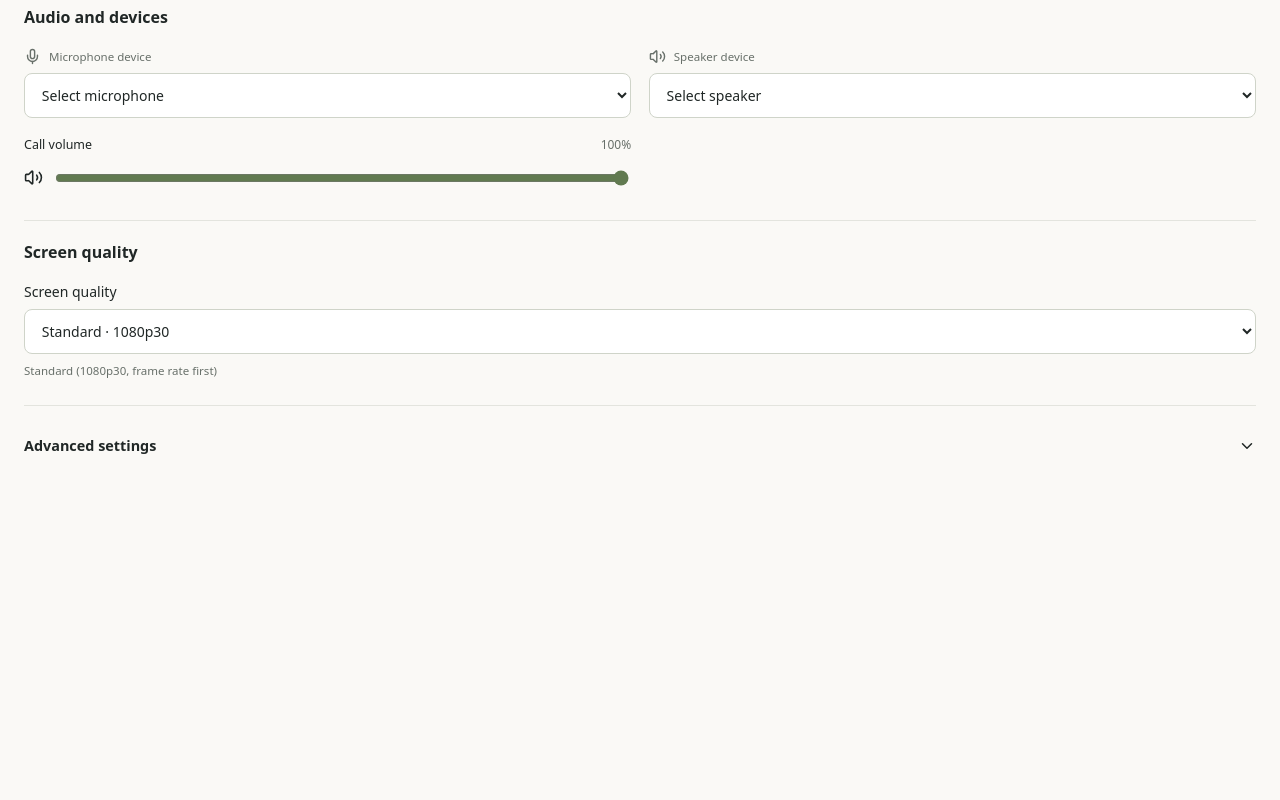
Test: grouped meeting settings › shows receiving settings only when available and retains the supplied preference
Check: the element "Receiving a screen" is not shown
Click the heading "Advanced settings" at (90, 446), box top-left (24, 436), bottom-right (1256, 455)
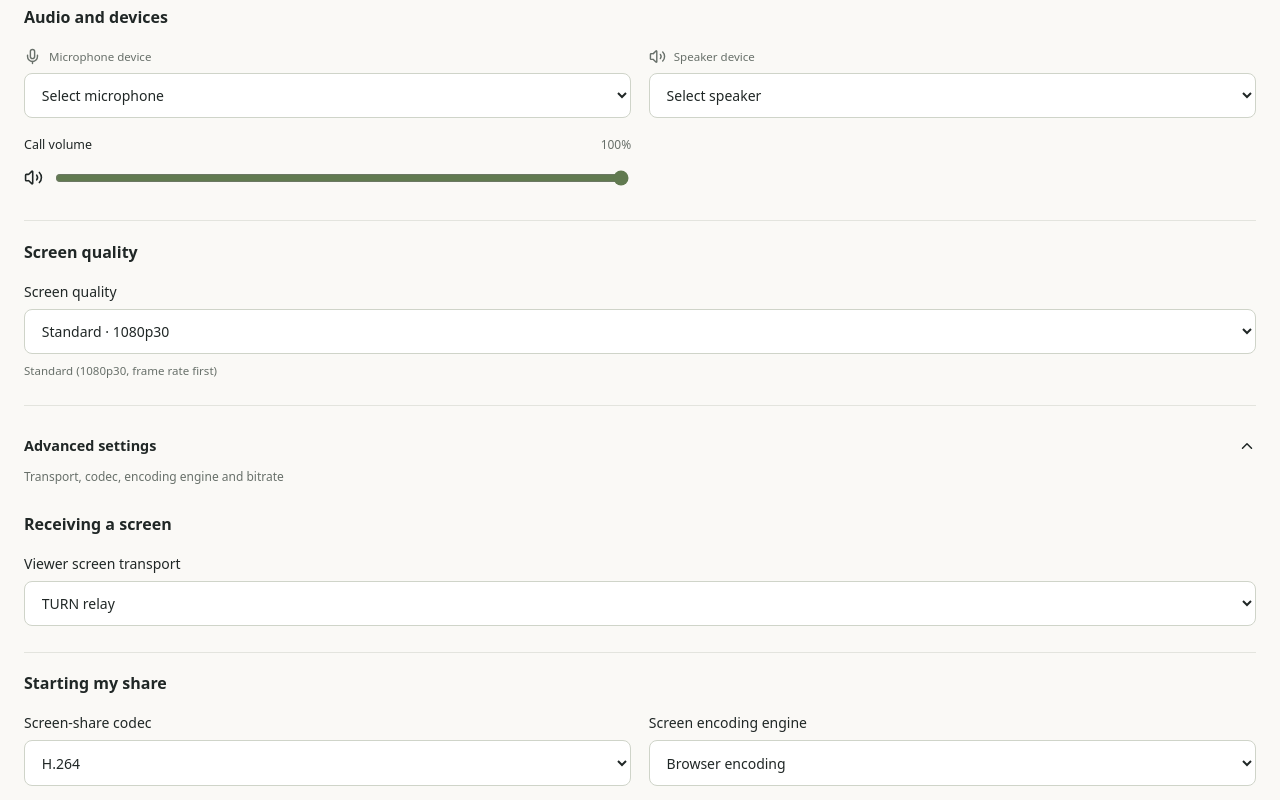
Check: the dropdown labelled "Viewer screen transport" shows "TURN relay", box top-left (24, 581), bottom-right (1256, 626)
